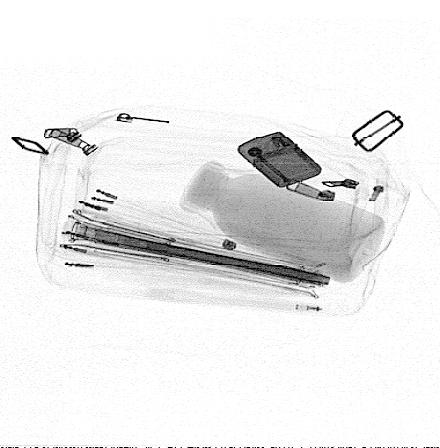Lighter: (237, 131, 322, 188)
